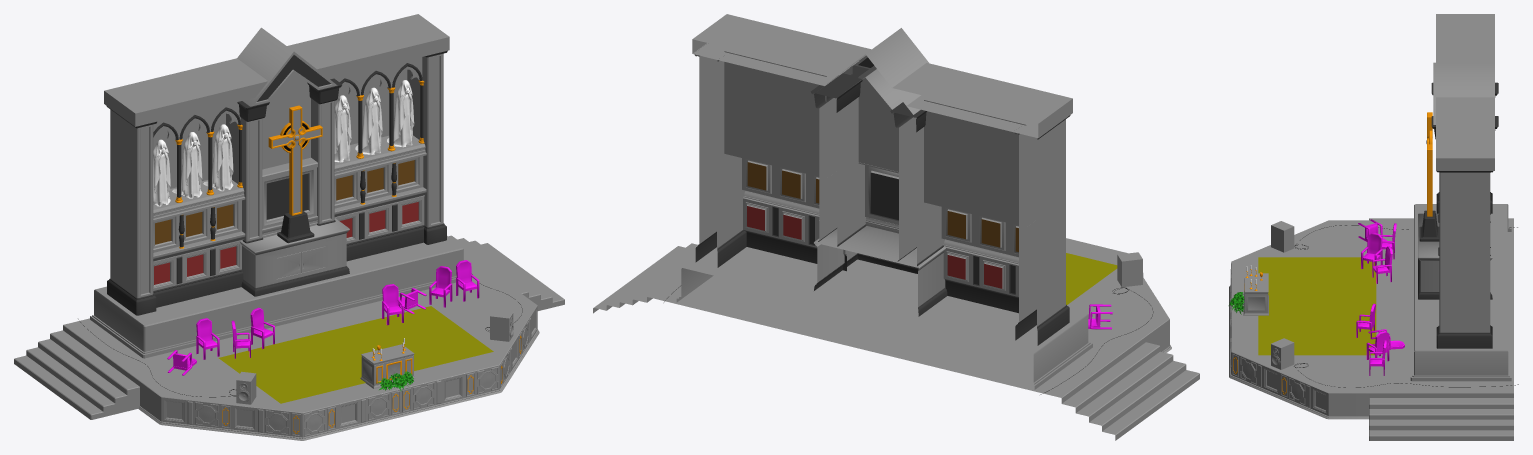
Rendered from altar_platform.FBX.
3 renders of one model, left to right at view 1: azimuth 30°, elevation 25°; view 2: azimuth 150°, elevation 25°; view 3: azimuth 270°, elevation 25°, orthographic. The views are drawn at different scales.
Visible parts, largest first — view 1: Alter; view 2: Alter; view 3: Alter.
Boxes of the visible parts, left/top/right/bottom form: Alter: left=14, top=14, right=564, bottom=440; Alter: left=593, top=14, right=1199, bottom=440; Alter: left=1228, top=14, right=1518, bottom=440.
Bounding box in the file's own units: 2144 × 1236 × 1210.
